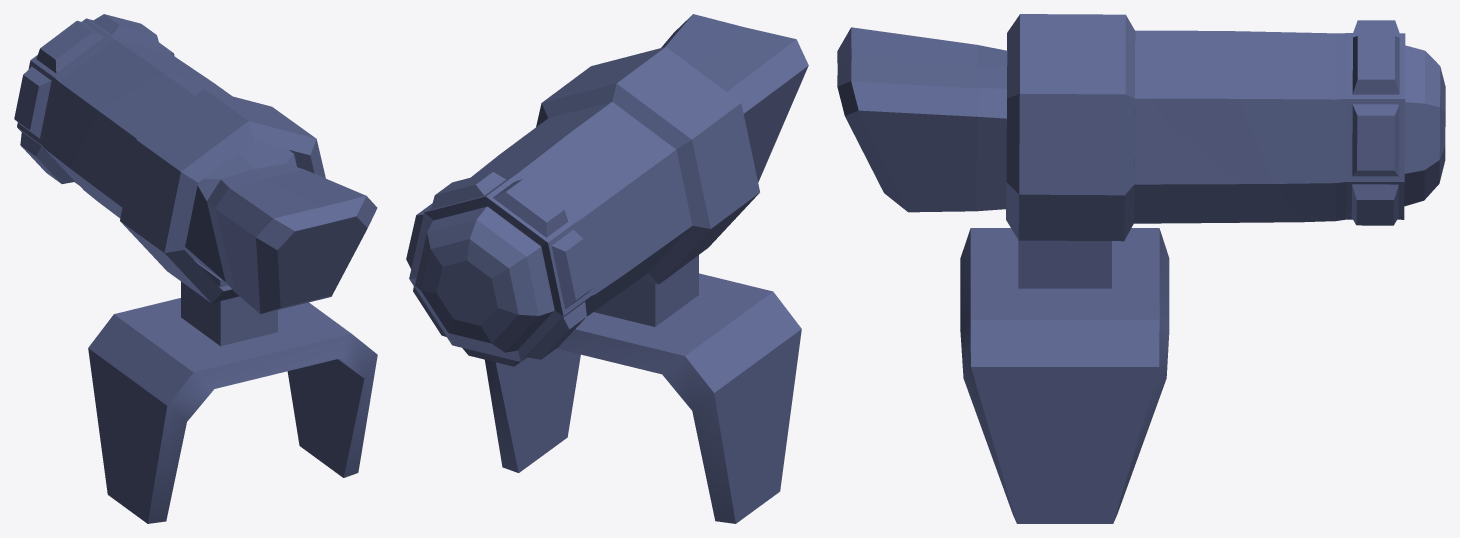
Rendered from Particle04.fbx.
3 views of the same model, side by side, from view 1: azimuth 30°, elevation 25°; view 2: azimuth 150°, elevation 25°; view 3: azimuth 270°, elevation 25° (orthographic). The views are drawn at different scales.
Parts seen in each view (by area): view 1: RifleFonar2.001; view 2: RifleFonar2.001; view 3: RifleFonar2.001.
Part boxes in pixels (left/top/right/bottom): RifleFonar2.001: left=14, top=14, right=377, bottom=523; RifleFonar2.001: left=406, top=14, right=808, bottom=523; RifleFonar2.001: left=837, top=14, right=1445, bottom=523.
Bounding box in the file's own units: 0.3137 × 0.5376 × 0.6626.
